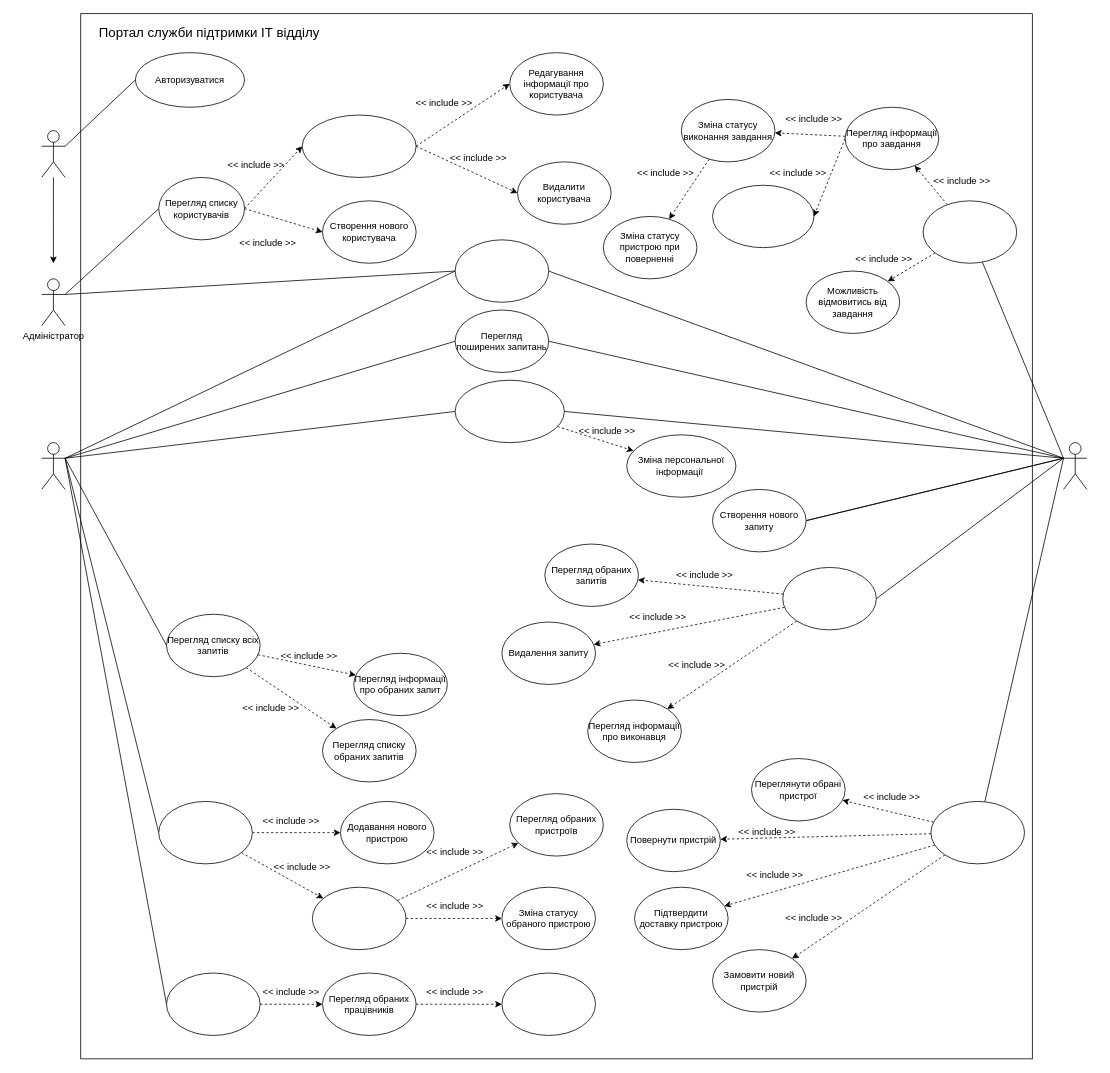
This 1110x1073 diagram has some shape labels left out. Each missing label, with the centre of its shape:
"Вихід з акаунту" belongs at point 501,270.
"Менеджер" belongs at point 53,465.
"Неавторизований користувач" belongs at point 53,153.
"Обрати пристрій для надання користувачу" belongs at point 763,216.
"Перегляд власних завдань" belongs at point 969,231.
"Перегляд власних пристроїв" belongs at point 977,832.
"Перегляд персональної сторінки користувача" belongs at point 509,411.
"Перегляд списку наданих пристроїв" belongs at point 205,832.
"Перегляд списку працівників відділу" belongs at point 213,1003.
"Перегляд списку пристроїв" belongs at point 359,918.
"Перегляд списку своїх запитів" belongs at point 829,598.
"Перегляд інформації про обраних користувачів" belongs at point 358,145.
"Працівник" belongs at point 1075,465.
"Редагування обов'язків працівника" belongs at point 548,1003.
